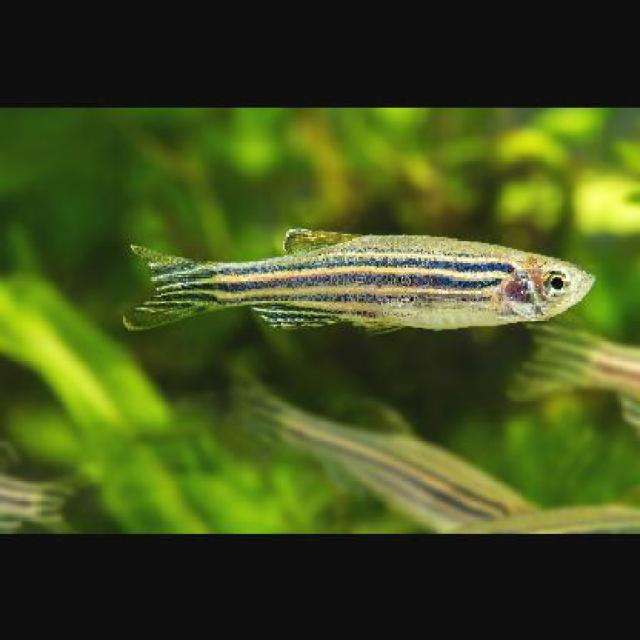ZebraFish: (126, 225, 594, 328)
